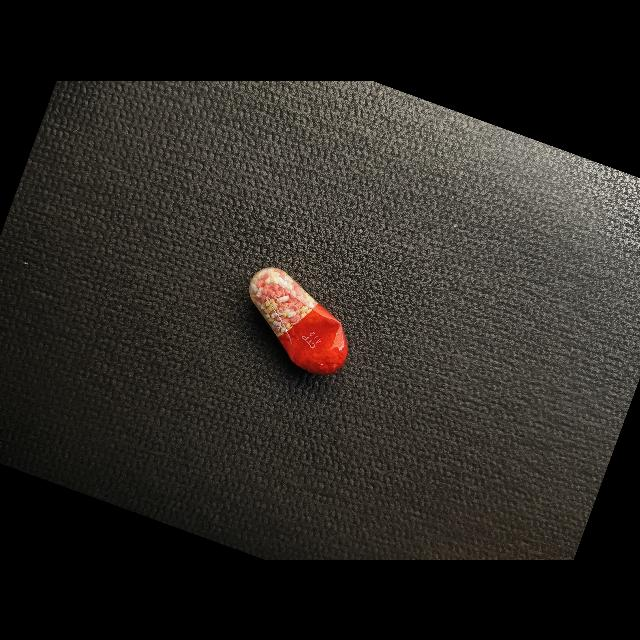Defective Capsule: (249, 267, 348, 374)
